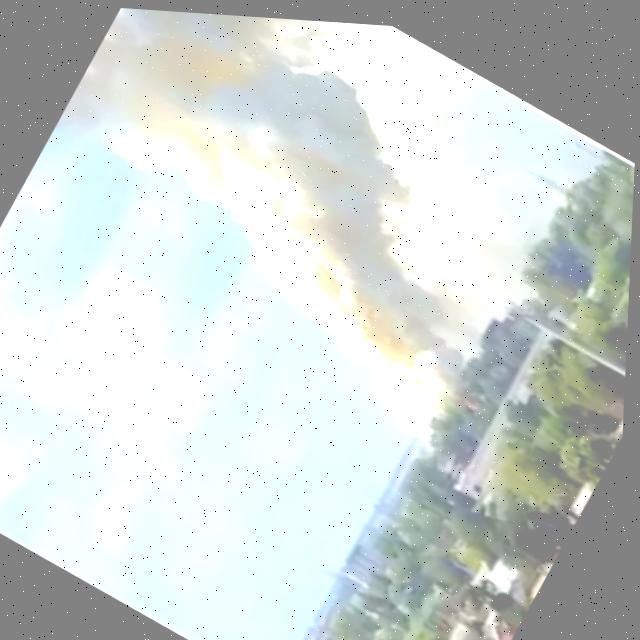Smoke: (21, 2, 587, 410)
